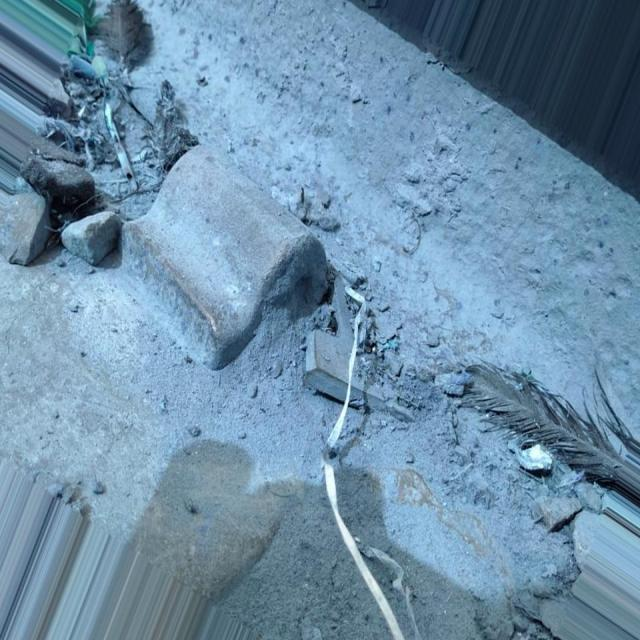Missing Fastener: (121, 126, 411, 419)
